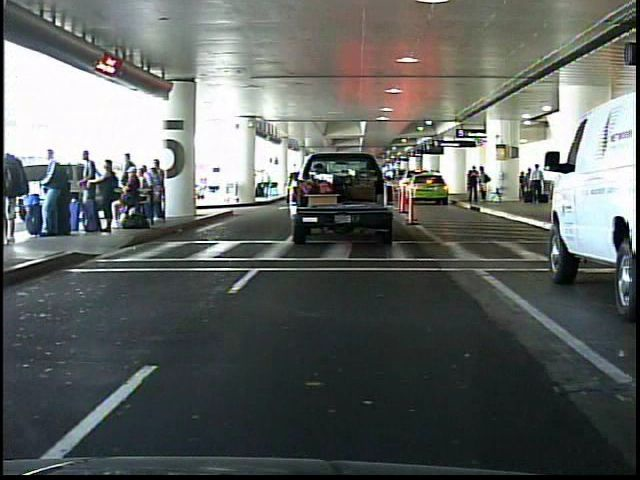person: (476, 165, 491, 203), (466, 164, 479, 204)
